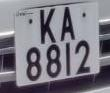1: (62, 37, 75, 81)
2: (73, 37, 93, 79)
8: (21, 43, 46, 84), (44, 43, 64, 81)
A: (59, 2, 78, 46)
K: (37, 4, 58, 49)
